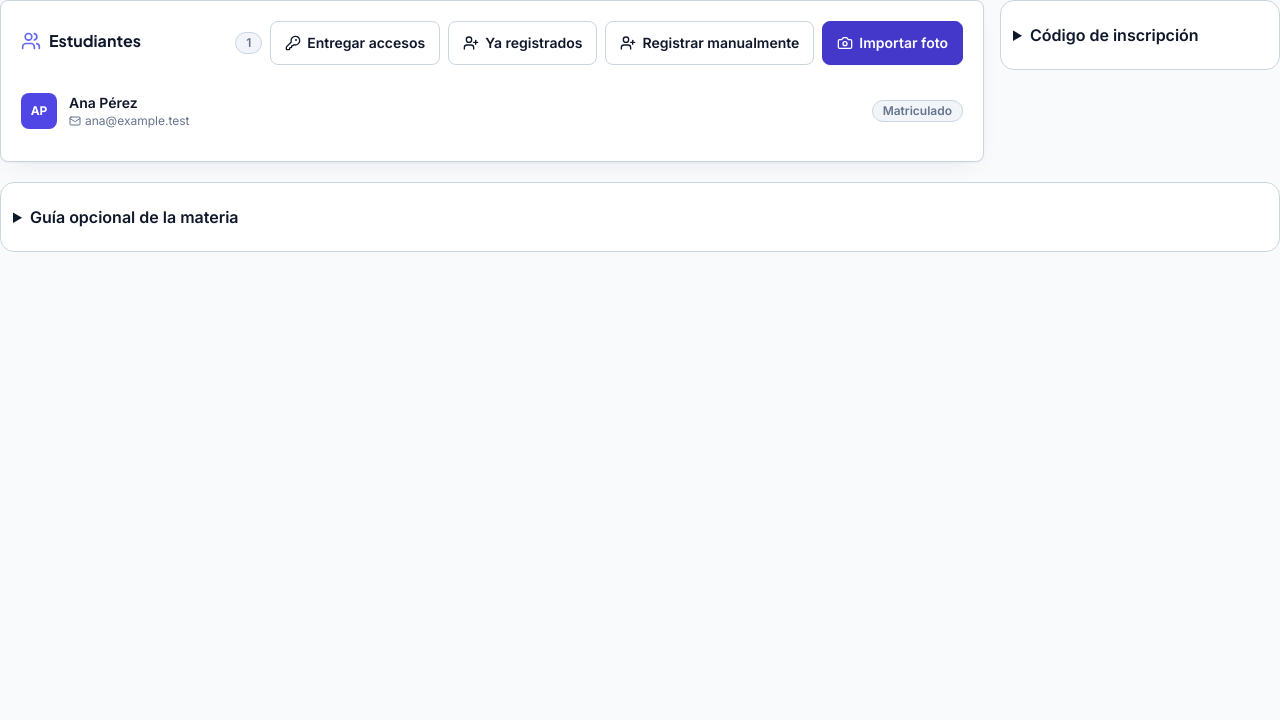
Test: MateriaVistaGeneral teacher journey › recommends creating an evaluation when students already joined
What coordinates should you click on to do the following:
click the heading "Guía opcional de la materia"
I would click on:
 (134, 217)
Its box is [30, 207, 238, 227].
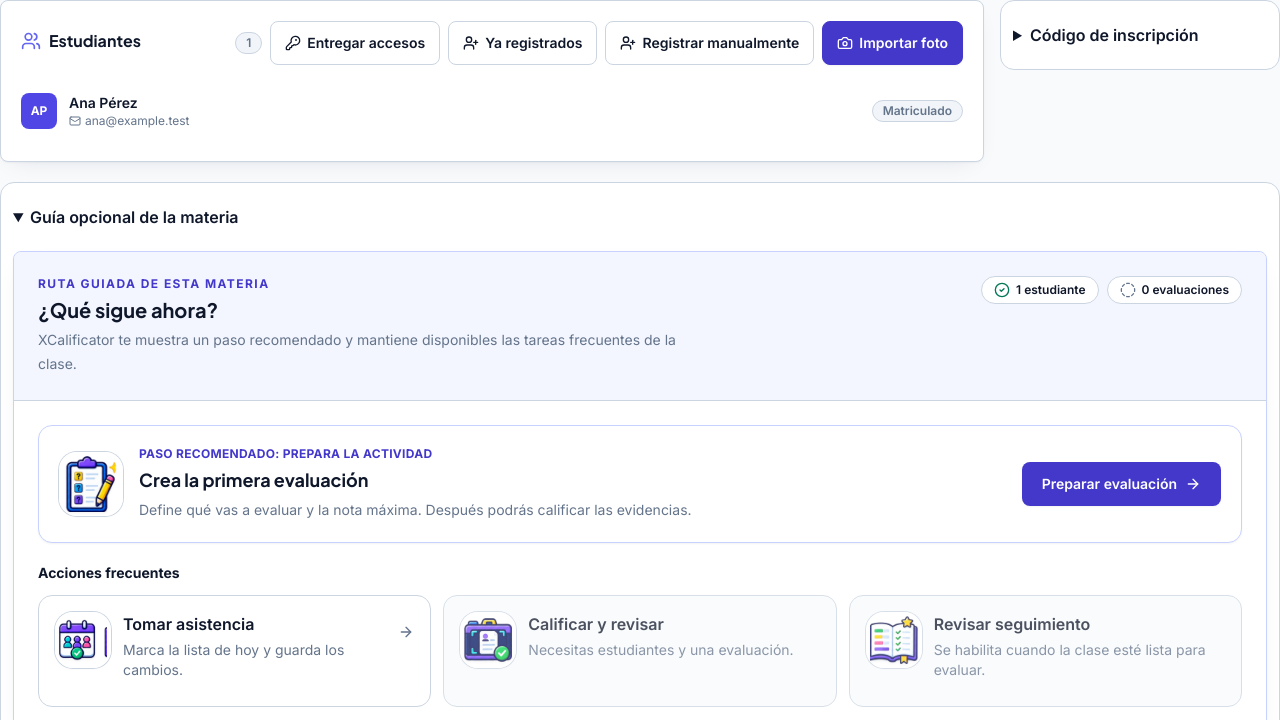
Now the heading "Crea la primera evaluación" is shown, box [139, 468, 368, 491]
